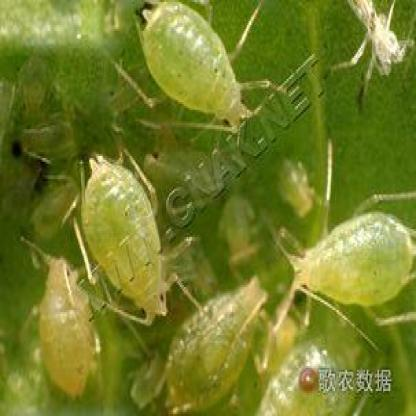aphid: (272, 169, 416, 340), (68, 148, 188, 318), (113, 0, 268, 125), (151, 271, 277, 416), (26, 242, 119, 398)
